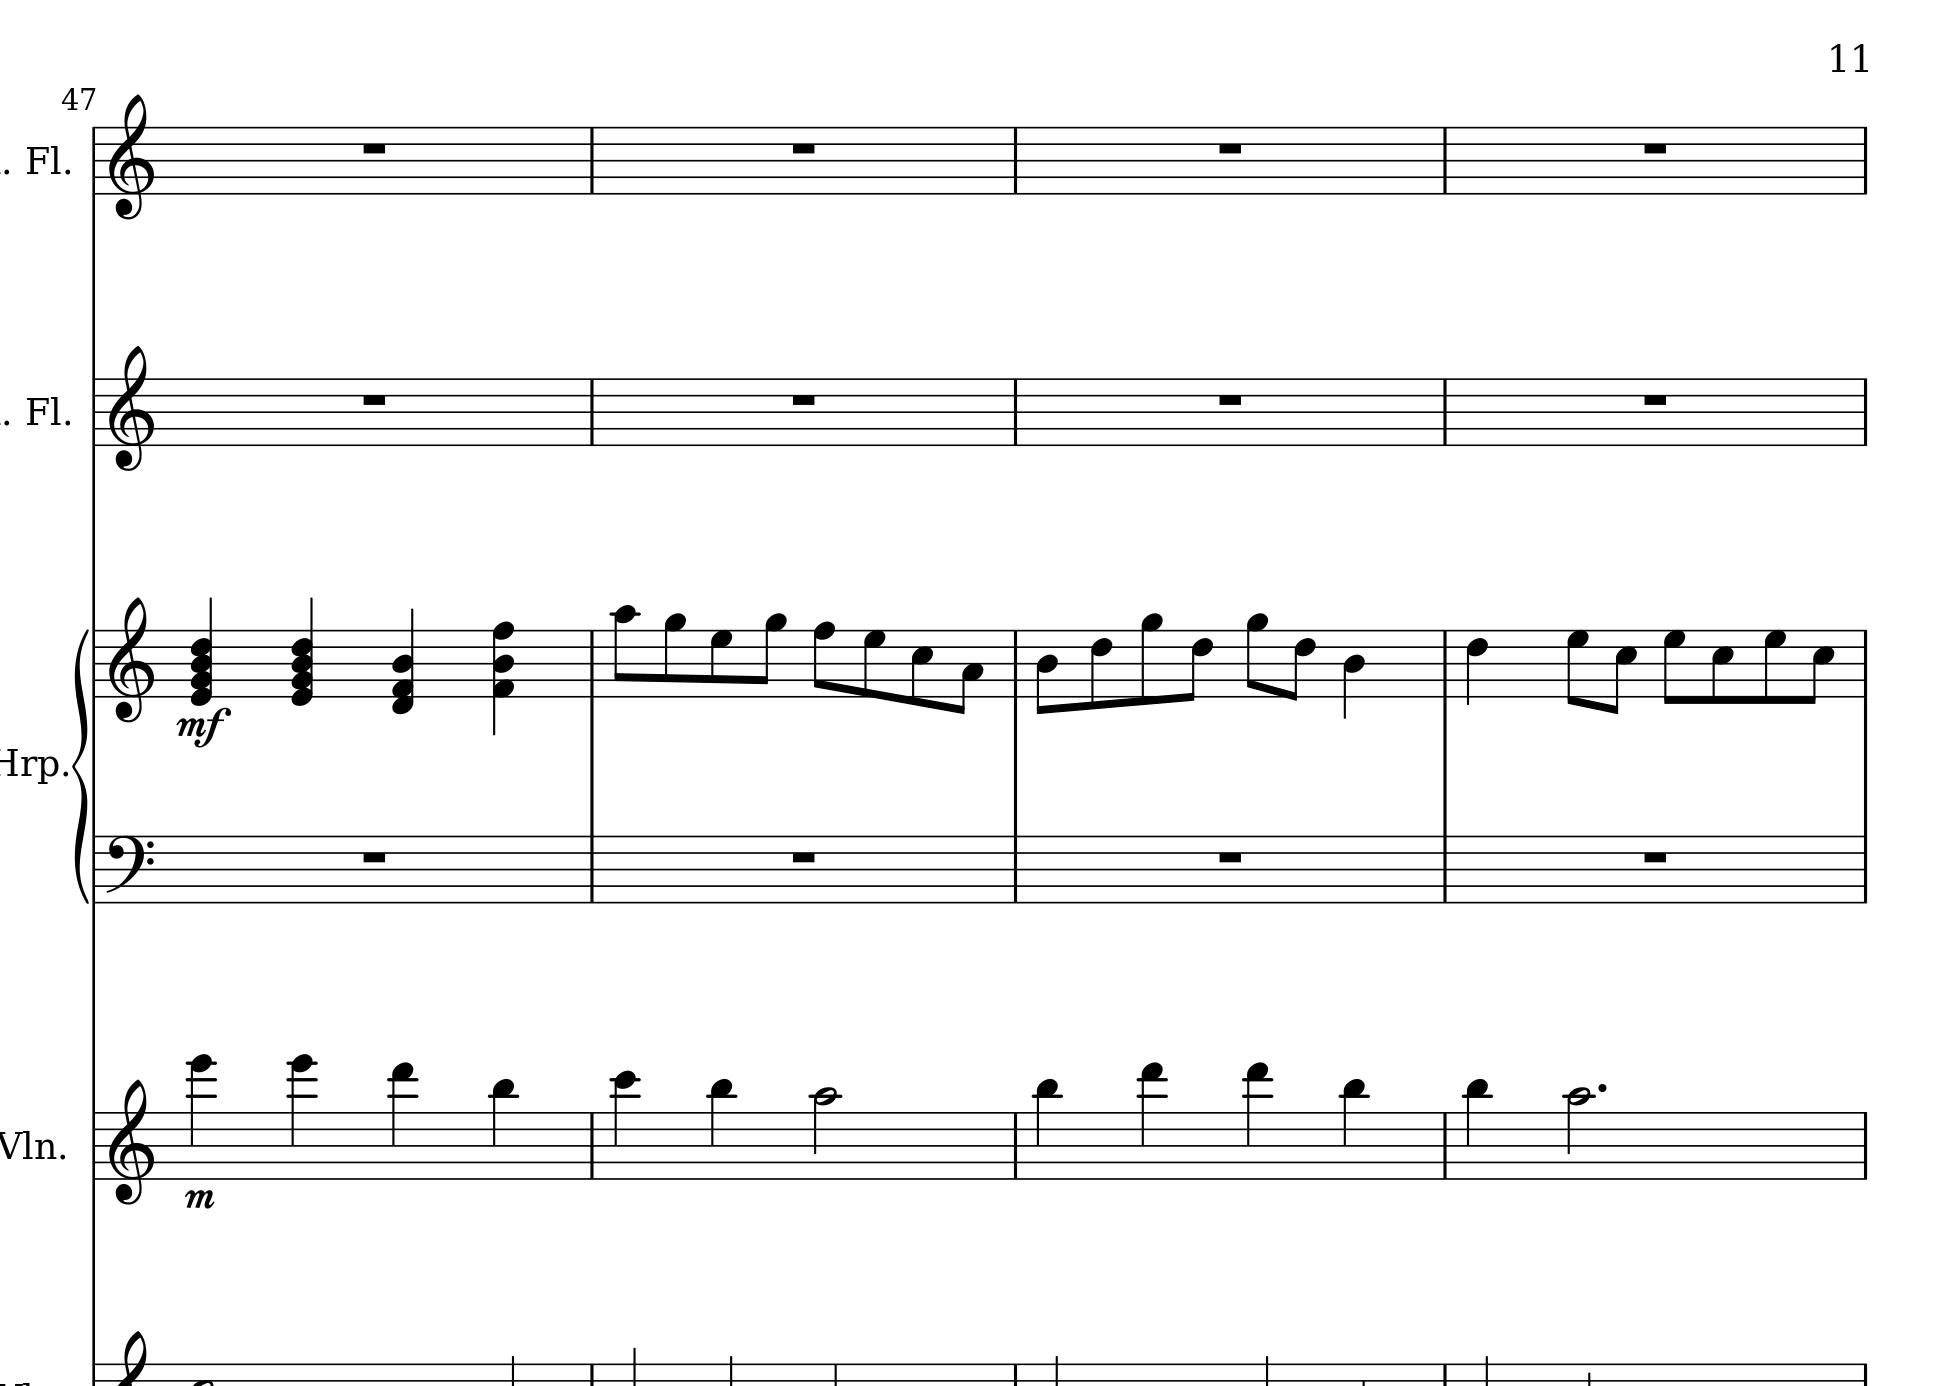1: (1851, 40, 1872, 76), (1828, 40, 1848, 76)
2_10: (810, 1084, 841, 1183), (1564, 1084, 1594, 1182)
4: (60, 85, 79, 112)
4_11: (1032, 1075, 1062, 1182), (706, 1075, 736, 1180), (489, 1075, 517, 1182), (1462, 1075, 1491, 1182), (1341, 1075, 1368, 1182)
4_12: (610, 1069, 640, 1182)
4_13: (388, 1060, 417, 1183), (1138, 1060, 1167, 1182), (1243, 1060, 1272, 1182)
4_14: (286, 1053, 316, 1180), (186, 1053, 216, 1177)
4_4: (1341, 627, 1368, 721)
4_4th: (289, 595, 315, 708)
4_6: (1464, 625, 1491, 706)
4_th: (487, 618, 517, 735), (388, 606, 418, 717), (187, 598, 217, 703)
7: (79, 84, 97, 112)
8_10: (610, 603, 640, 700)
8_3: (954, 627, 985, 715)
8_4: (1035, 627, 1062, 714)
8_5: (1608, 627, 1639, 715), (1804, 627, 1836, 705), (1710, 627, 1737, 706), (910, 627, 934, 709)
8_6: (1182, 627, 1215, 702), (1287, 627, 1317, 702), (1089, 627, 1116, 709)
8_7: (1761, 625, 1789, 706), (1662, 625, 1689, 706), (1564, 627, 1590, 708), (861, 628, 886, 700), (709, 628, 733, 699)
8_8: (811, 619, 837, 699)
8_9: (754, 612, 787, 699), (1138, 610, 1165, 706), (661, 612, 688, 700), (1245, 610, 1270, 700)
Brace: (70, 622, 88, 901)
Fclef: (103, 832, 154, 904)
Fl: (22, 391, 64, 432), (22, 141, 63, 181)
Gclef: (106, 343, 157, 474), (106, 1075, 156, 1206), (106, 93, 156, 220), (106, 595, 154, 724)
Hrp: (1, 745, 60, 787)
Rests1: (358, 388, 390, 409), (1639, 388, 1671, 409), (787, 388, 820, 408), (358, 138, 390, 157), (787, 138, 819, 157), (1215, 138, 1246, 157), (1639, 138, 1671, 157), (1215, 388, 1246, 408), (787, 847, 820, 865), (358, 847, 390, 865), (1215, 847, 1246, 865), (1641, 847, 1671, 865)
Single_barline: (1855, 126, 1875, 193), (583, 1111, 603, 1177), (1437, 1111, 1456, 1177), (583, 628, 601, 697), (1857, 378, 1875, 445), (1437, 630, 1455, 697), (1008, 1111, 1026, 1177), (1857, 628, 1873, 697), (85, 1111, 102, 1180), (1008, 378, 1024, 445), (1437, 835, 1453, 903), (1857, 835, 1873, 903), (583, 127, 600, 193), (1008, 127, 1024, 193), (1437, 127, 1453, 193), (1437, 379, 1453, 445), (583, 835, 600, 901), (1008, 835, 1024, 901), (1857, 1111, 1873, 1177), (583, 379, 600, 444), (88, 834, 103, 903), (87, 378, 102, 445), (1008, 630, 1023, 697), (87, 126, 100, 195), (88, 628, 102, 697)
Vln: (1, 1123, 58, 1165)
dot: (1596, 1080, 1609, 1095)
mf: (177, 705, 232, 748)
mp: (183, 1185, 217, 1212)
